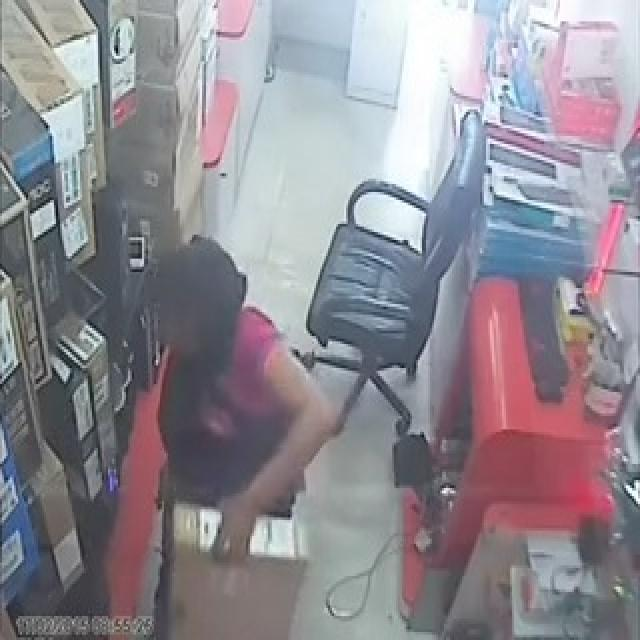normal: (141, 235, 340, 640)
